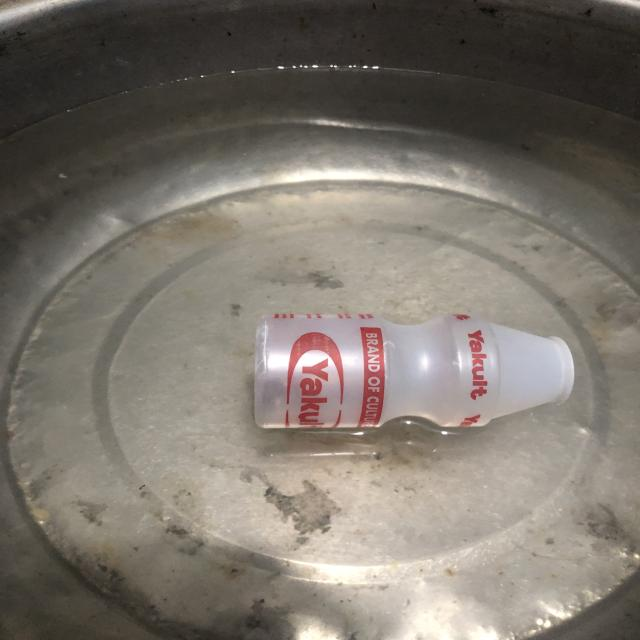Plastic Bottle: (228, 251, 592, 470)
